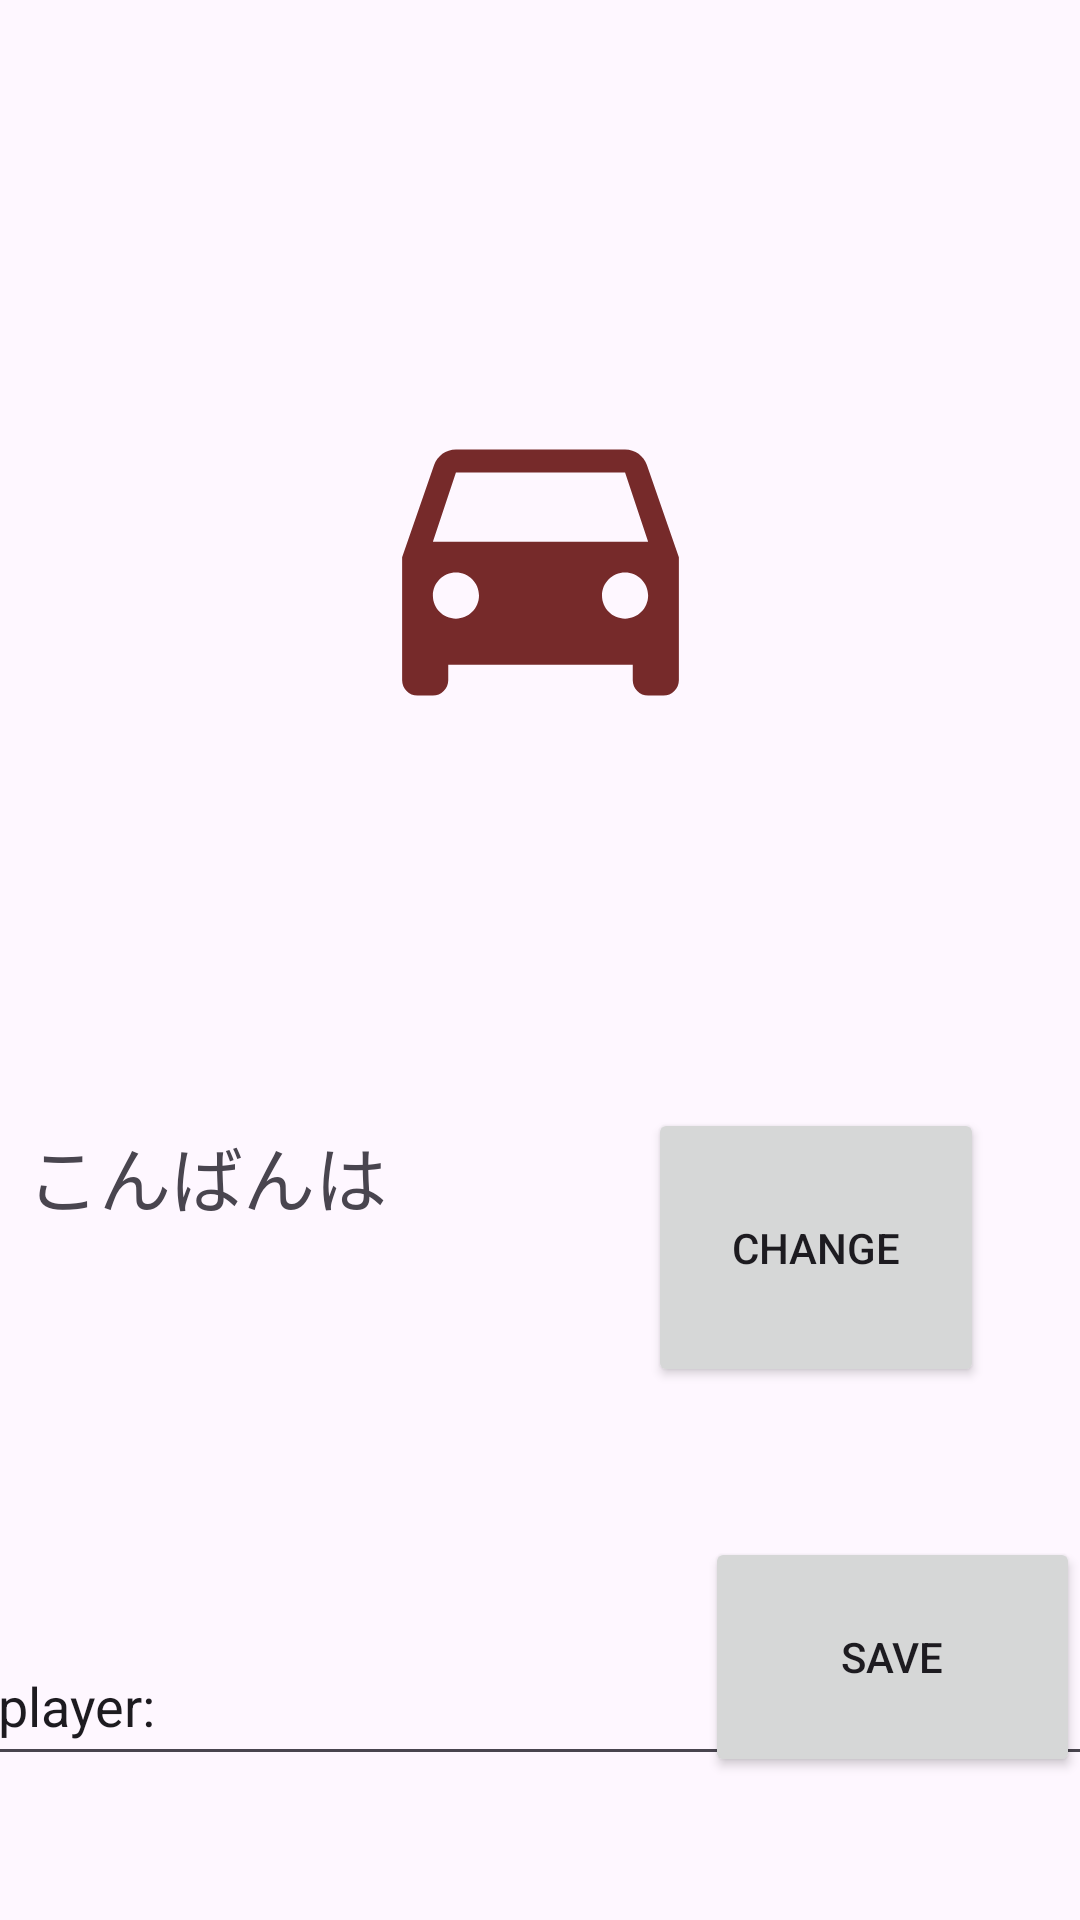

Screen size 1080px x 1920px. Icon name, then its box in pixels as {"x1": x1, "y1": y1, "x2": x2, "y2": y2}:
drive eta: {"x1": 402, "y1": 449, "x2": 679, "y2": 696}
